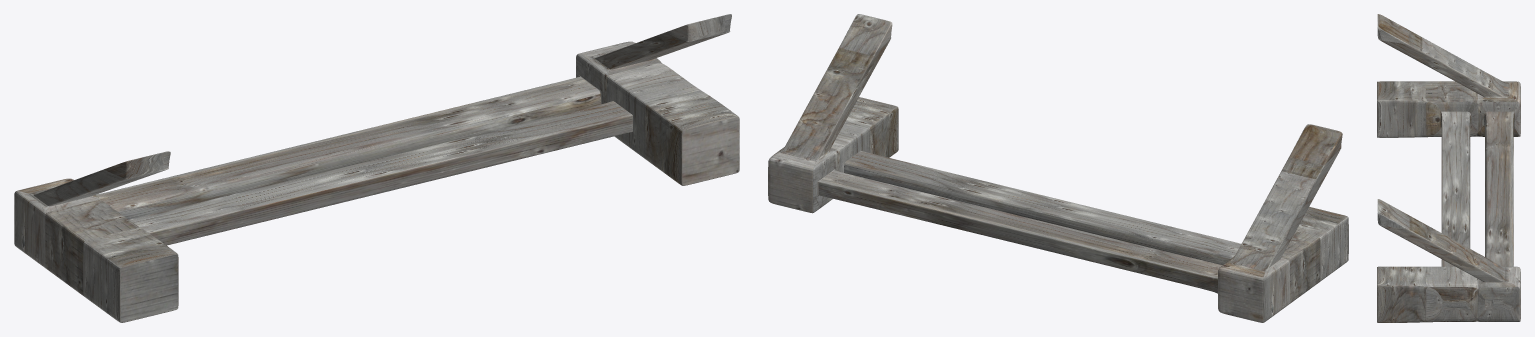
The model's file is barrier.dae.
3 views of the same model, side by side, from view 1: azimuth 30°, elevation 25°; view 2: azimuth 150°, elevation 25°; view 3: azimuth 270°, elevation 25° (orthographic). The views are drawn at different scales.
Parts seen in each view (by area): view 1: Cube.003; view 2: Cube.003; view 3: Cube.003.
Boxes of the visible parts, x1=… form: Cube.003: x1=14, y1=14, x2=739, y2=322; Cube.003: x1=768, y1=14, x2=1348, y2=322; Cube.003: x1=1377, y1=14, x2=1520, y2=322.
Bounding box in the file's own units: 8.65 × 2.57 × 2.14.
